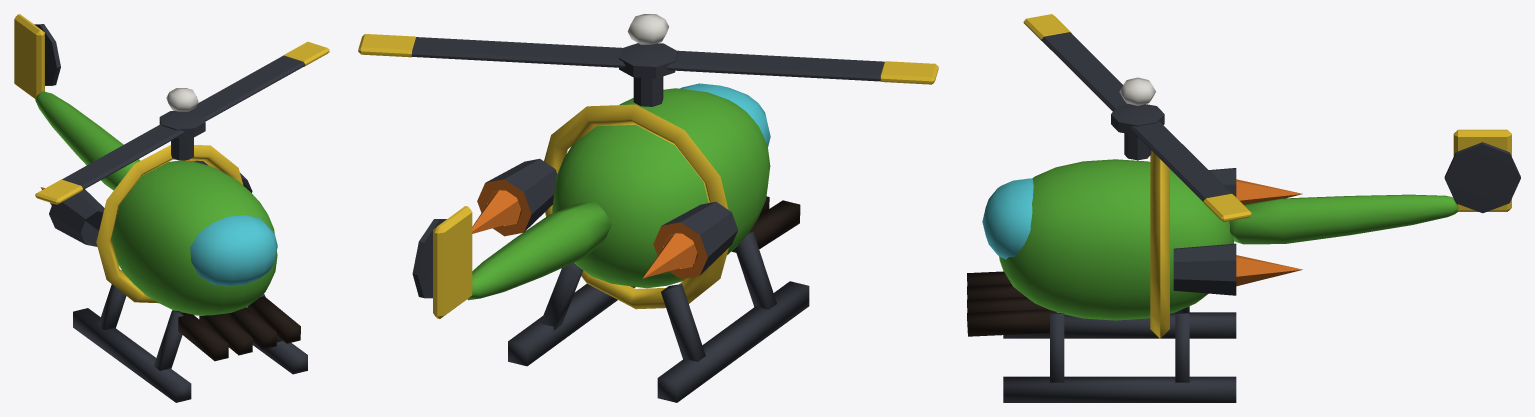
The picture shows the model from 3 angles, left to right: view 1: azimuth 30°, elevation 25°; view 2: azimuth 150°, elevation 25°; view 3: azimuth 270°, elevation 25°; orthographic projection. The views are drawn at different scales.
Parts seen in each view (by area): view 1: heli_0_base, heli_1_torreta; view 2: heli_0_base, heli_1_torreta; view 3: heli_0_base, heli_1_torreta.
Boxes of the visible parts, x1=… form: heli_0_base: x1=14, y1=14, x2=307, y2=402; heli_1_torreta: x1=35, y1=41, x2=329, y2=204; heli_0_base: x1=412, y1=83, x2=809, y2=402; heli_1_torreta: x1=358, y1=14, x2=938, y2=106; heli_0_base: x1=967, y1=129, x2=1520, y2=402; heli_1_torreta: x1=1023, y1=14, x2=1251, y2=222.
Bounding box in the file's own units: 1.08 × 0.7061 × 1.24.
